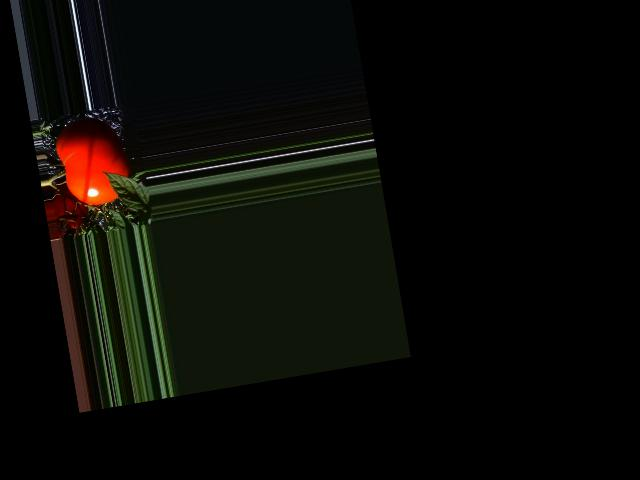tomato: (52, 112, 135, 210)
